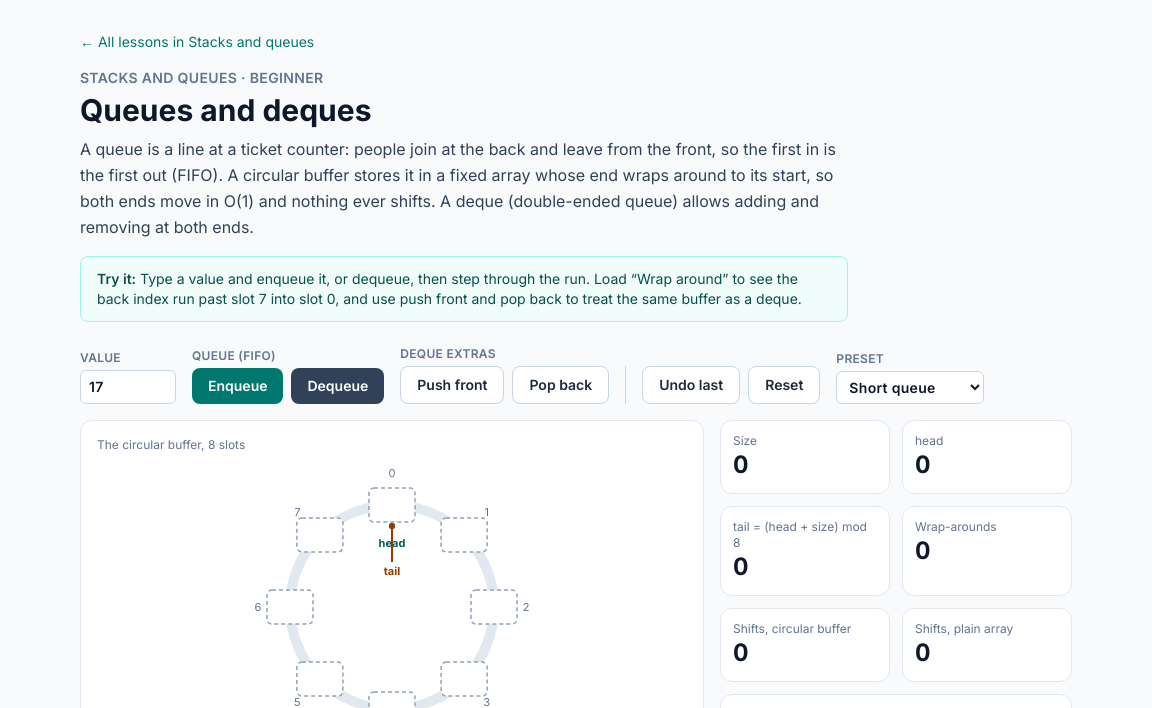
Scenario: queues and deques lesson › dequeues from the front by moving head, with no shifting
The width and height of the screenshot is (1152, 708).
Click the button "Dequeue": (338, 386) [292,368,384,404]
(page scrolled)
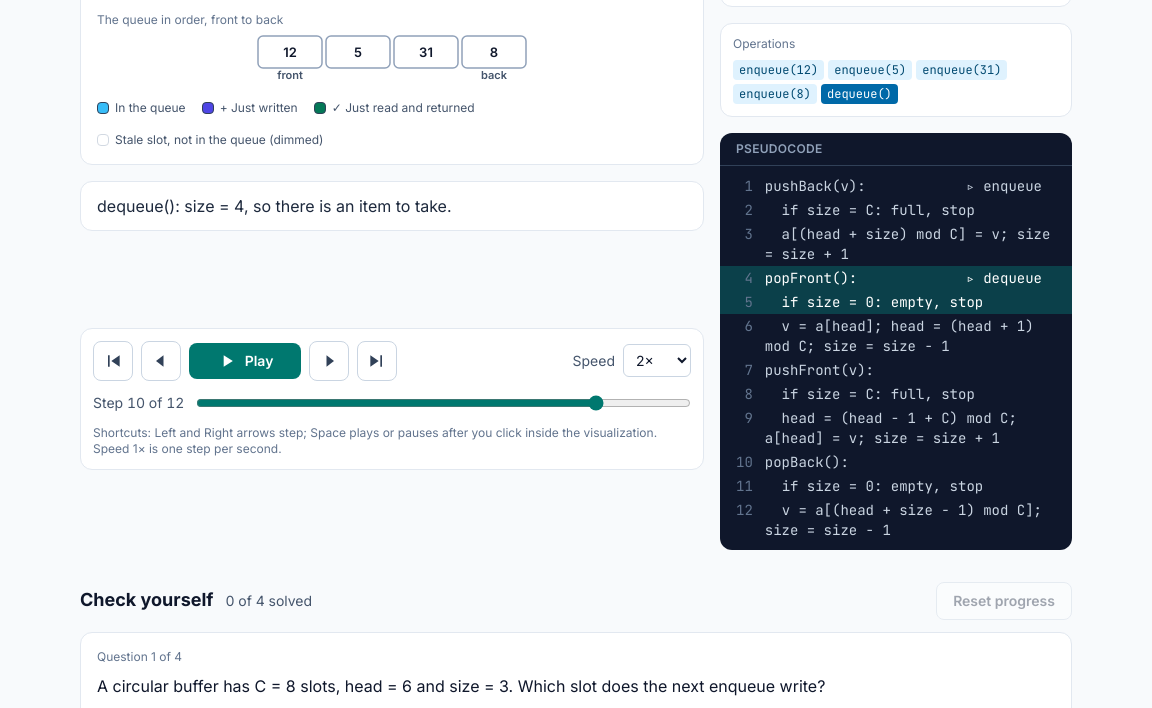
Expected: the text "dequeue(): size = 4, so there is an item to take." is shown, [80,181,704,231]
Click the button named "Next step": (329, 360) [309,340,349,380]
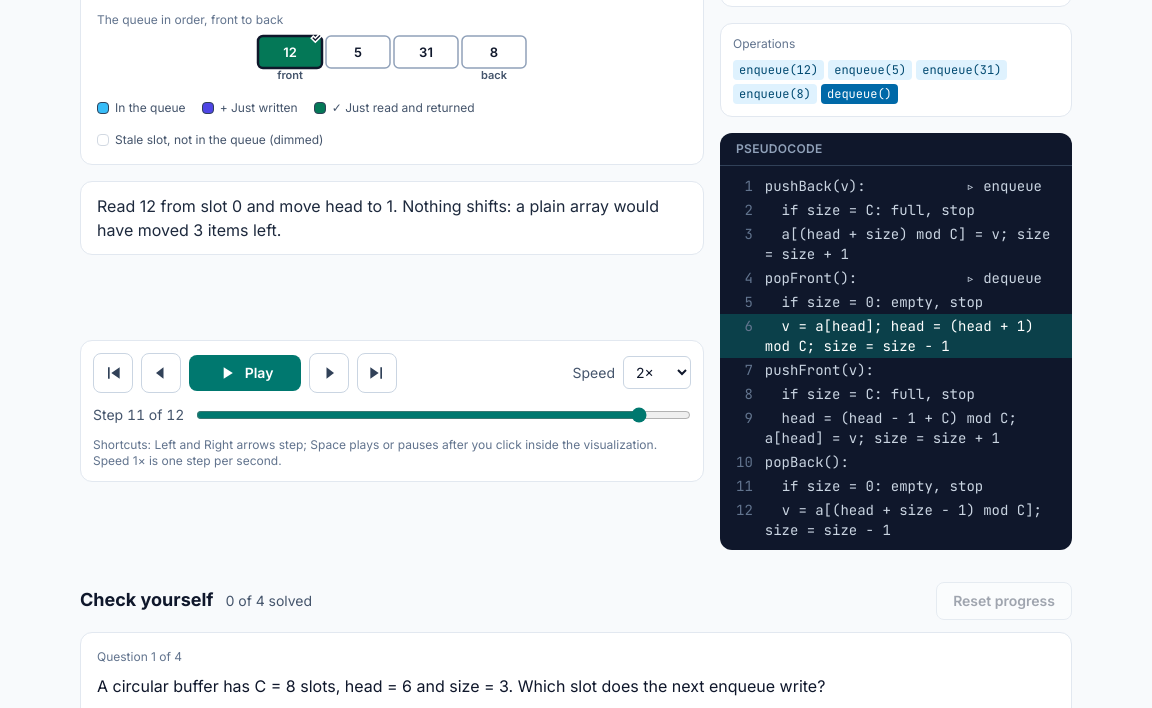
Expected: the text "Read 12 from slot 0 and move head to 1" is shown, [97,196,659,240]
